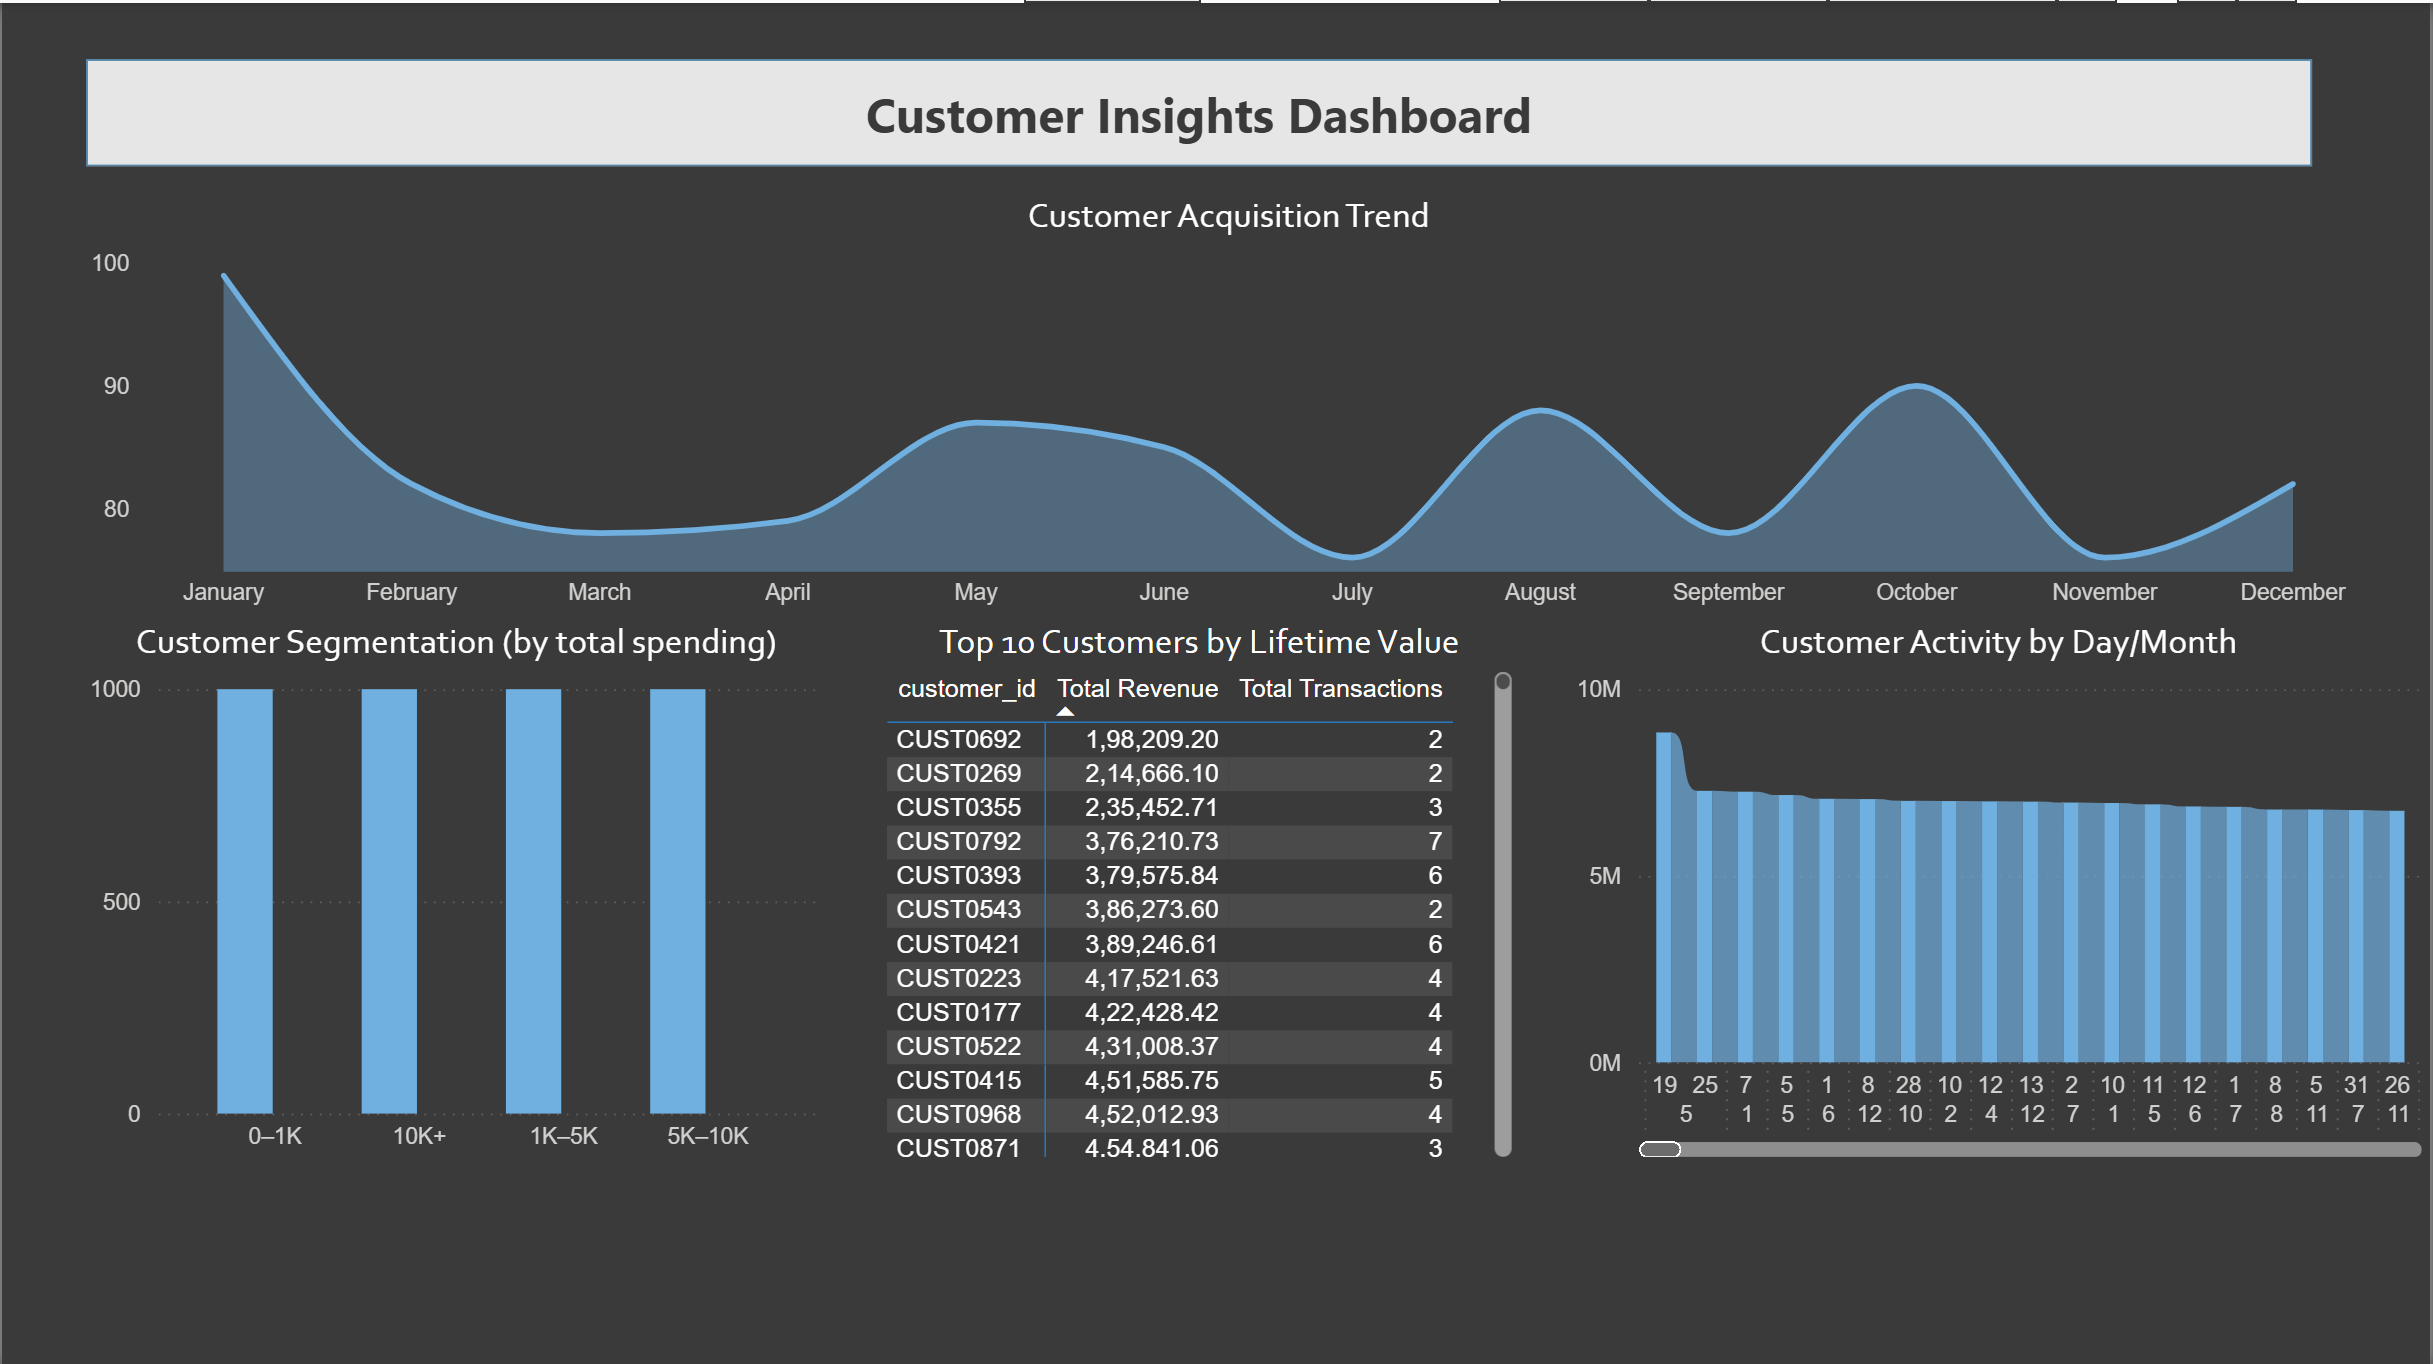

Layout of this report page (visuals, bound fields, positions):
{"tool":"powerbi","page":{"name":"Page 3","canvas":[1280,720],"ordinal":2},"visuals":[{"type":"areaChart","title":"Customer Acquisition Trend","fields":{"Category":["warehouse dim_customers.registration_date.Variation.Date Hierarchy.Month"],"Y":["CountNonNull(warehouse dim_customers.customer_key)"]},"box":[41.1,100,1211.1,226.7],"z":1000},{"type":"pivotTable","title":"Top 10 Customers by Lifetime Value","fields":{"Rows":["warehouse dim_customers.customer_id"],"Values":["Measure Table.Total Revenue","Measure Table.Total Transactions"]},"box":[461.4,324.3,338.8,288.7],"z":2000},{"type":"ribbonChart","title":"Customer Activity by Day/Month","fields":{"Category":["warehouse dim_date.month","warehouse dim_date.day"],"Y":["Measure Table.Total Revenue"]},"box":[823.9,324.3,456.1,288.7],"z":3000},{"type":"clusteredColumnChart","title":"Customer Segmentation (by total spending)","fields":{"Y":["Customer Segments.Customers per Segment","CountNonNull(warehouse agg_customer_metrics.customer_key)"],"Category":["Customer Segments.Segment"]},"box":[40.9,324.3,396.8,288.7],"z":4000},{"type":"shape","box":[44.4,30,1173.3,56.7],"z":4001}]}

Visuals, with their boxes in screenshot pixels (x1, y1, x2, y2), scaled from the page's 1280x720 canvas onto the 2433x1364 screenshot:
"Customer Acquisition Trend" areaChart: {"left": 78, "top": 189, "right": 2380, "bottom": 619}
"Top 10 Customers by Lifetime Value" pivotTable: {"left": 877, "top": 614, "right": 1521, "bottom": 1161}
"Customer Activity by Day/Month" ribbonChart: {"left": 1566, "top": 614, "right": 2432, "bottom": 1161}
"Customer Segmentation (by total spending)" clusteredColumnChart: {"left": 78, "top": 614, "right": 832, "bottom": 1161}
shape: {"left": 84, "top": 57, "right": 2315, "bottom": 164}
